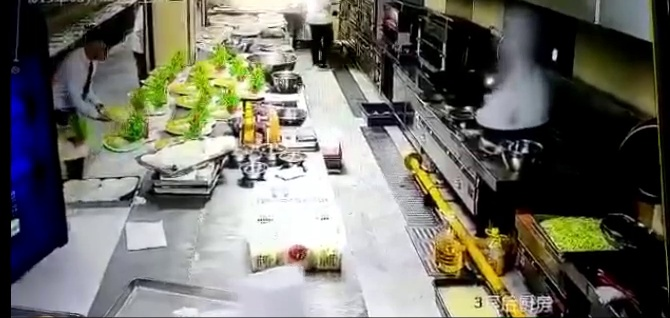smoke: (482, 19, 555, 125)
